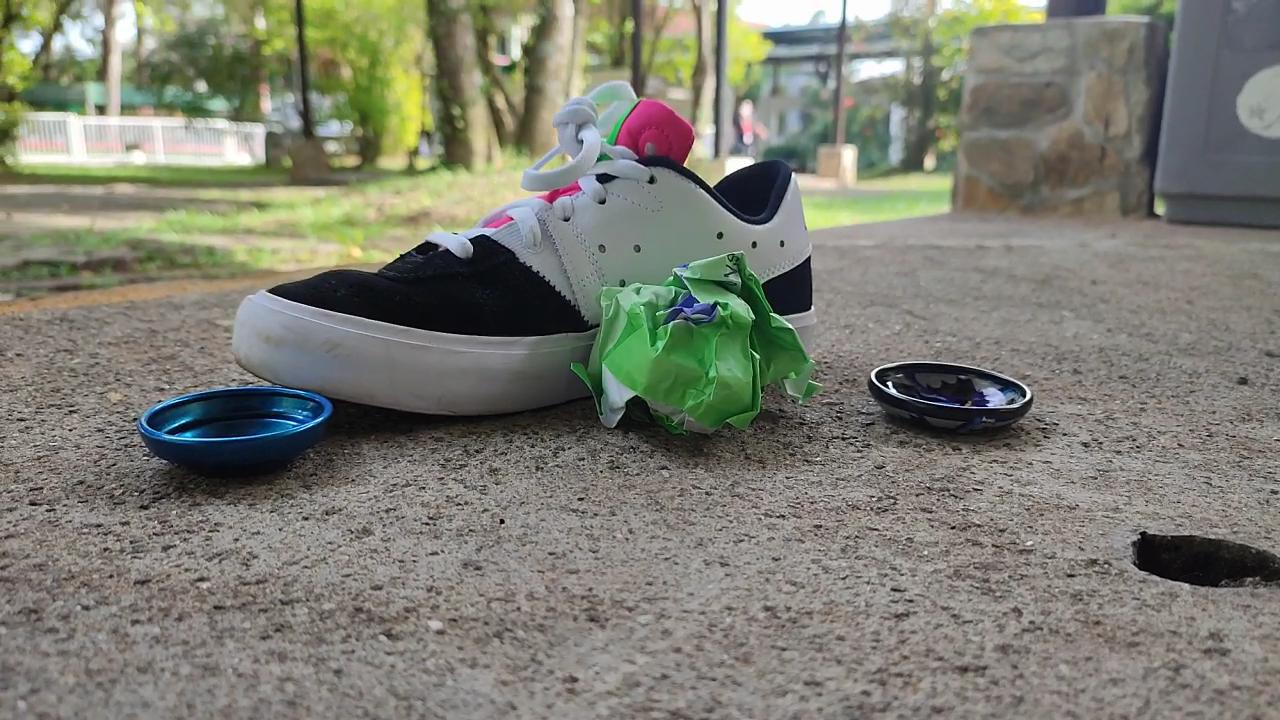Paper: (559, 235, 836, 453)
